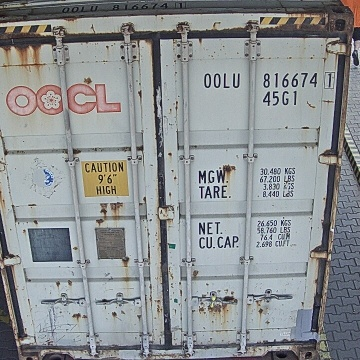serial_id: (204, 72, 335, 88)
